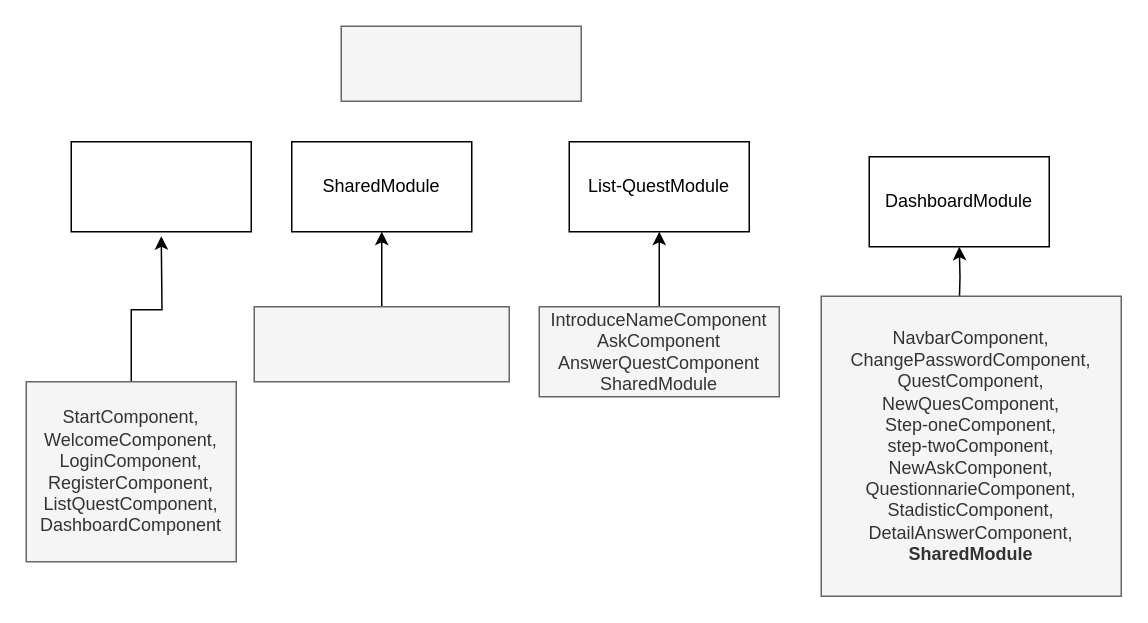
Some shapes in this 1148 by 623 pixel diagram are drawn without their labels. The box of each missing label's shape, as (x1, y1, x2, y2) in pixels:
AppModule: (70, 140, 251, 232)
Lazy loading pattern design: (340, 25, 581, 101)
LoadingComponent FormsModule ReactiveFormsModule: (253, 305, 509, 382)
